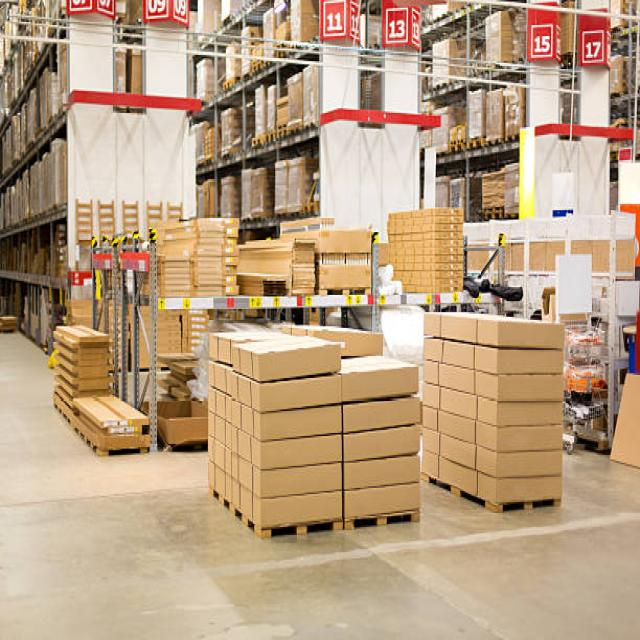Wooden-Pallets: (202, 473, 342, 548), (345, 505, 421, 540)
